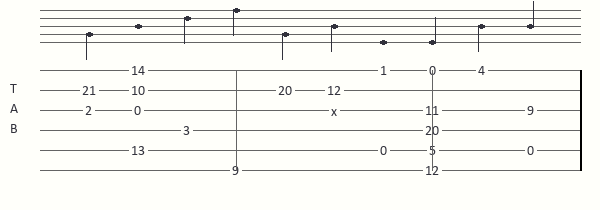0: (134, 104, 145, 117), (380, 144, 391, 157), (429, 64, 440, 77), (527, 144, 538, 157)
1: (380, 64, 391, 77)
10: (131, 84, 149, 97)
11: (425, 104, 443, 117)
12: (327, 84, 345, 97), (425, 164, 443, 177)
13: (131, 144, 149, 157)
14: (131, 64, 149, 77)
2: (85, 104, 96, 117)
20: (278, 84, 296, 97), (425, 124, 443, 137)
21: (82, 84, 100, 97)
3: (183, 124, 194, 137)
4: (478, 64, 489, 77)
5: (429, 144, 440, 157)
9: (232, 164, 243, 177), (527, 104, 538, 117)
x: (331, 105, 341, 116)
